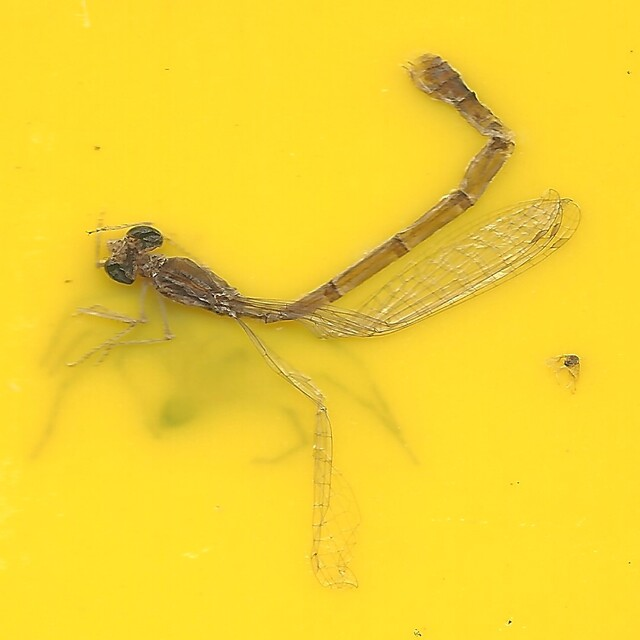Odonata: (59, 50, 581, 590)
